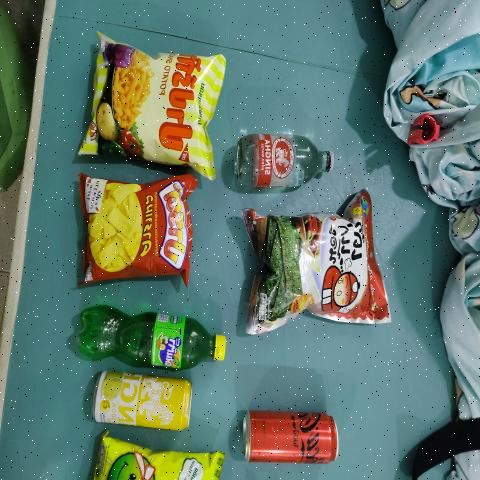coke_red: (241, 413, 338, 469)
fanta_green: (72, 306, 229, 374)
paprika: (92, 39, 210, 168)
party_red: (81, 180, 190, 274)
singha_soda: (230, 141, 336, 182)
singha_yellow: (101, 369, 188, 432)
taokaenoi: (253, 214, 379, 321)
